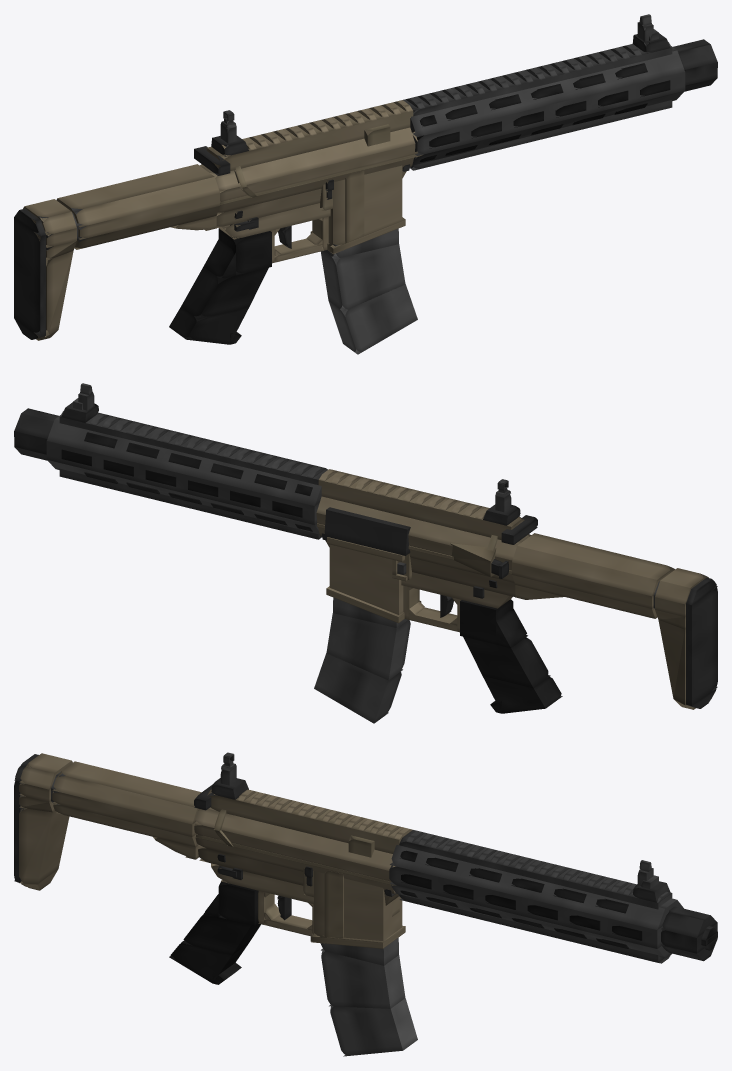
The model's file is honeybadger.obj.
The picture shows the model from 3 angles, top to bottom: view 1: azimuth 30°, elevation 25°; view 2: azimuth 150°, elevation 25°; view 3: azimuth 330°, elevation 25°; orthographic projection.
Visible parts, largest first — view 1: gunModel134, gunModel44, ammoModel2, gunModel46, gunModel18, ammoModel0, gunModel0, gunModel145, gunModel5, gunModel49, gunModel8, gunModel1 (+20 smaller); view 2: gunModel134, gunModel44, gunModel18, ammoModel2, gunModel46, gunModel5, ammoModel0, gunModel145, gunModel49, gunModel8, gunModel0, gunModel24 (+21 smaller); view 3: gunModel134, gunModel44, ammoModel2, gunModel46, ammoModel0, gunModel18, gunModel5, gunModel0, gunModel143, gunModel49, gunModel1, gunModel8 (+19 smaller).
Boxes of the visible parts, bbox=[...] form: gunModel134: bbox=[56, 164, 219, 227]; gunModel44: bbox=[410, 46, 684, 137]; ammoModel2: bbox=[321, 244, 405, 311]; gunModel46: bbox=[413, 72, 685, 155]; gunModel18: bbox=[206, 102, 413, 170]; ammoModel0: bbox=[328, 284, 417, 354]; gunModel0: bbox=[199, 127, 417, 191]; gunModel145: bbox=[14, 217, 45, 336]; gunModel5: bbox=[322, 165, 402, 248]; gunModel49: bbox=[402, 44, 672, 116]; gunModel8: bbox=[181, 266, 268, 319]; gunModel1: bbox=[212, 144, 417, 202]; gunModel134: bbox=[512, 533, 675, 596]; gunModel44: bbox=[47, 415, 321, 506]; gunModel18: bbox=[318, 470, 524, 540]; ammoModel2: bbox=[326, 613, 410, 680]; gunModel46: bbox=[46, 441, 319, 524]; gunModel5: bbox=[329, 544, 403, 614]; ammoModel0: bbox=[314, 653, 401, 723]; gunModel145: bbox=[686, 586, 717, 705]; gunModel49: bbox=[59, 412, 327, 484]; gunModel8: bbox=[463, 636, 550, 688]; gunModel0: bbox=[316, 496, 531, 560]; gunModel24: bbox=[324, 507, 410, 555]; gunModel134: bbox=[52, 761, 201, 824]; gunModel44: bbox=[390, 839, 683, 929]; ammoModel2: bbox=[321, 951, 405, 1008]; gunModel46: bbox=[389, 865, 662, 948]; ammoModel0: bbox=[330, 998, 417, 1056]; gunModel18: bbox=[207, 789, 404, 853]; gunModel5: bbox=[314, 871, 402, 940]; gunModel0: bbox=[194, 807, 395, 870]; gunModel143: bbox=[19, 808, 69, 884]; gunModel49: bbox=[399, 830, 672, 909]; gunModel1: bbox=[194, 824, 390, 881]; gunModel8: bbox=[181, 914, 260, 954].
Size of the model in its own units: 22.75 by 8.47 by 2.02.
